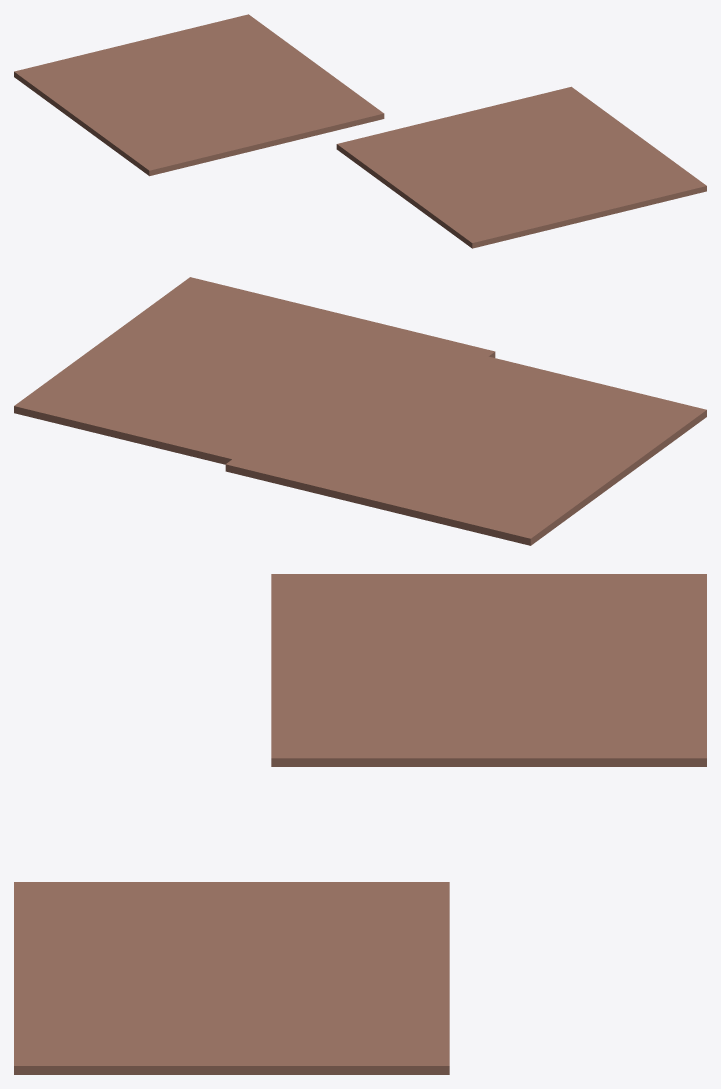
Rendered from Herbe2.glb.
3 views of the same model, one above another, from view 1: azimuth 30°, elevation 25°; view 2: azimuth 150°, elevation 25°; view 3: azimuth 270°, elevation 25° (orthographic). The views are drawn at different scales.
Visible parts, largest first — view 1: Cube.001, Cube; view 2: Cube, Cube.001; view 3: Cube.001, Cube.
Boxes of the visible parts, x1,y1,x2,y2 form: Cube.001: (336,86,706,248); Cube: (14,14,384,176); Cube: (225,335,706,545); Cube.001: (14,277,495,464); Cube.001: (14,882,449,1074); Cube: (271,574,706,766).
Bounding box in the file's own units: 15.15 × 2.38 × 11.85.
